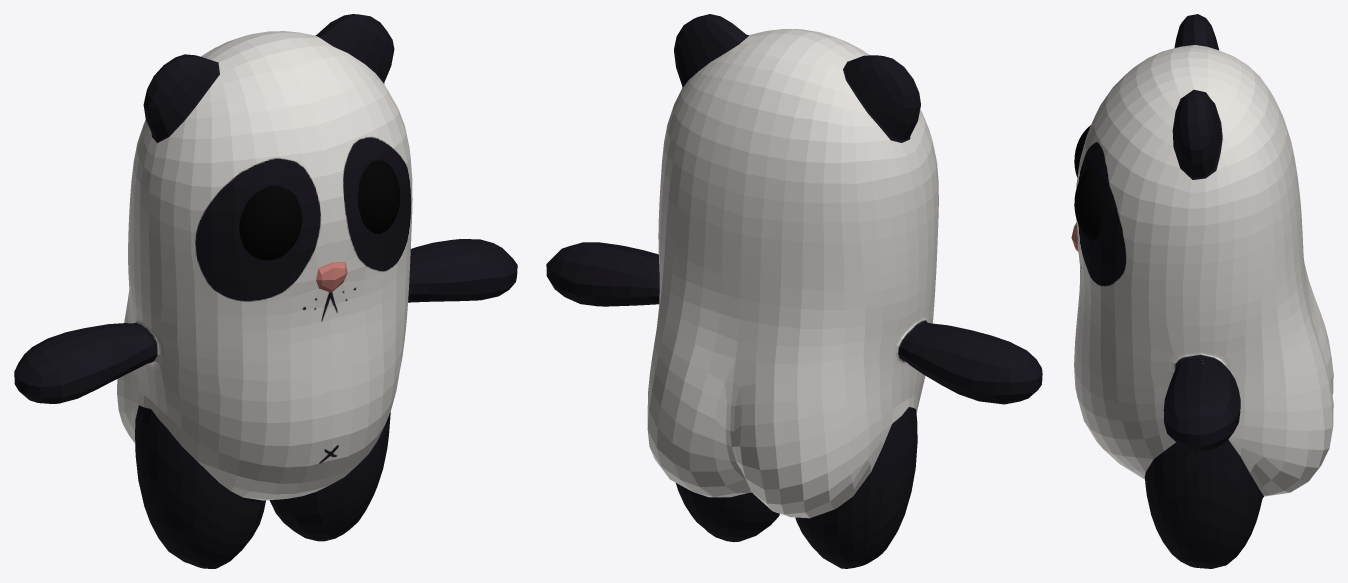
Rendered from Panda_Video.fbx.
3 renders of one model, left to right at view 1: azimuth 30°, elevation 25°; view 2: azimuth 150°, elevation 25°; view 3: azimuth 270°, elevation 25°, orthographic. The views are drawn at different scales.
Parts seen in each view (by area): view 1: BSurfaceMesh.001, Panda_New, PM3D_Sphere3D1_2.001; view 2: Panda_New, BSurfaceMesh.001; view 3: BSurfaceMesh.001, Panda_New, PM3D_Sphere3D1_2.001.
Boxes of the visible parts, x1,y1,x2,y2 form: BSurfaceMesh.001: (14,14,516,568); Panda_New: (14,14,517,568); PM3D_Sphere3D1_2.001: (239,160,400,260); Panda_New: (546,14,1042,568); BSurfaceMesh.001: (546,15,1042,568); BSurfaceMesh.001: (1071,14,1333,568); Panda_New: (1071,14,1333,568); PM3D_Sphere3D1_2.001: (1074,125,1101,240).
Bounding box in the file's own units: 349 × 350 × 171.
3 materials, 3 textured.
